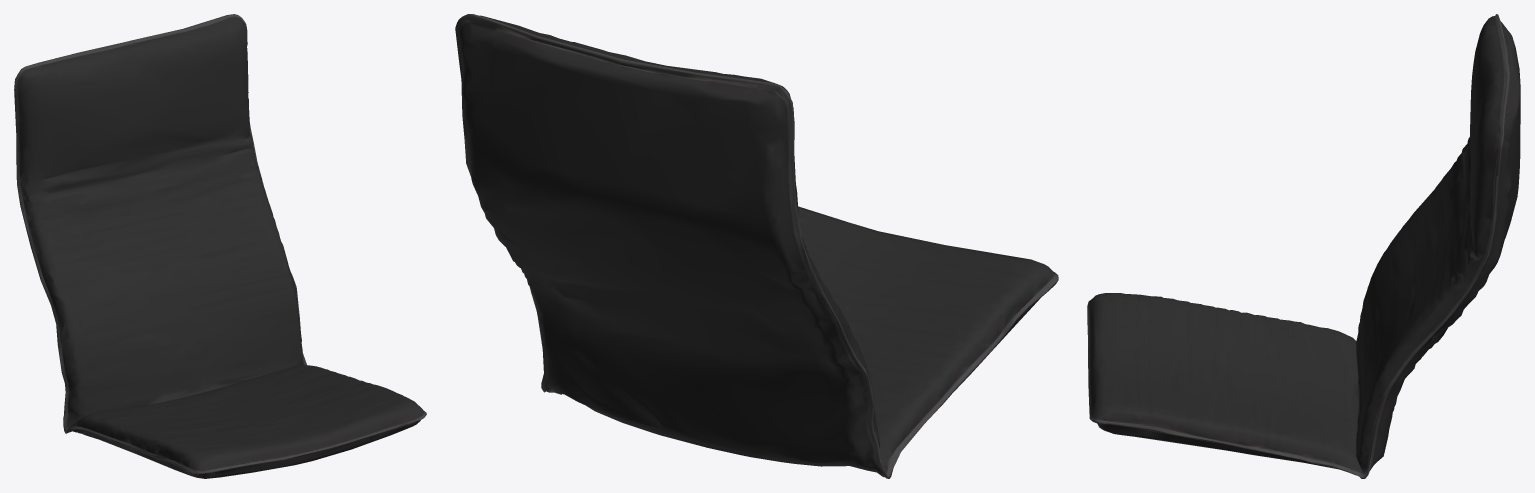
File: 24 - POÄNG - 扶手椅椅墊，Knisa 黑色 IKEA 線上購物.glb
3 renders of one model, left to right at view 1: azimuth 30°, elevation 25°; view 2: azimuth 150°, elevation 25°; view 3: azimuth 270°, elevation 25°, orthographic. The views are drawn at different scales.
Visible parts, largest first — view 1: ProcessedMeshNode; view 2: ProcessedMeshNode; view 3: ProcessedMeshNode.
Part boxes in pixels (box(x1,y1,x2,y2)): ProcessedMeshNode: box(14, 14, 426, 478); ProcessedMeshNode: box(455, 14, 1058, 478); ProcessedMeshNode: box(1087, 14, 1520, 478).
Bounding box in the file's own units: 0.5796 × 0.7322 × 0.8173.
Materials: 1 (1 with a texture image).
